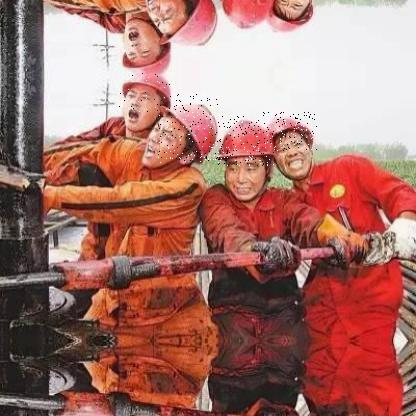safetyhelmet: (158, 94, 220, 164), (208, 116, 278, 168), (118, 73, 176, 113), (263, 112, 318, 152)
